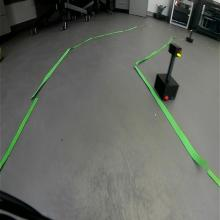green: (168, 42, 182, 59)
